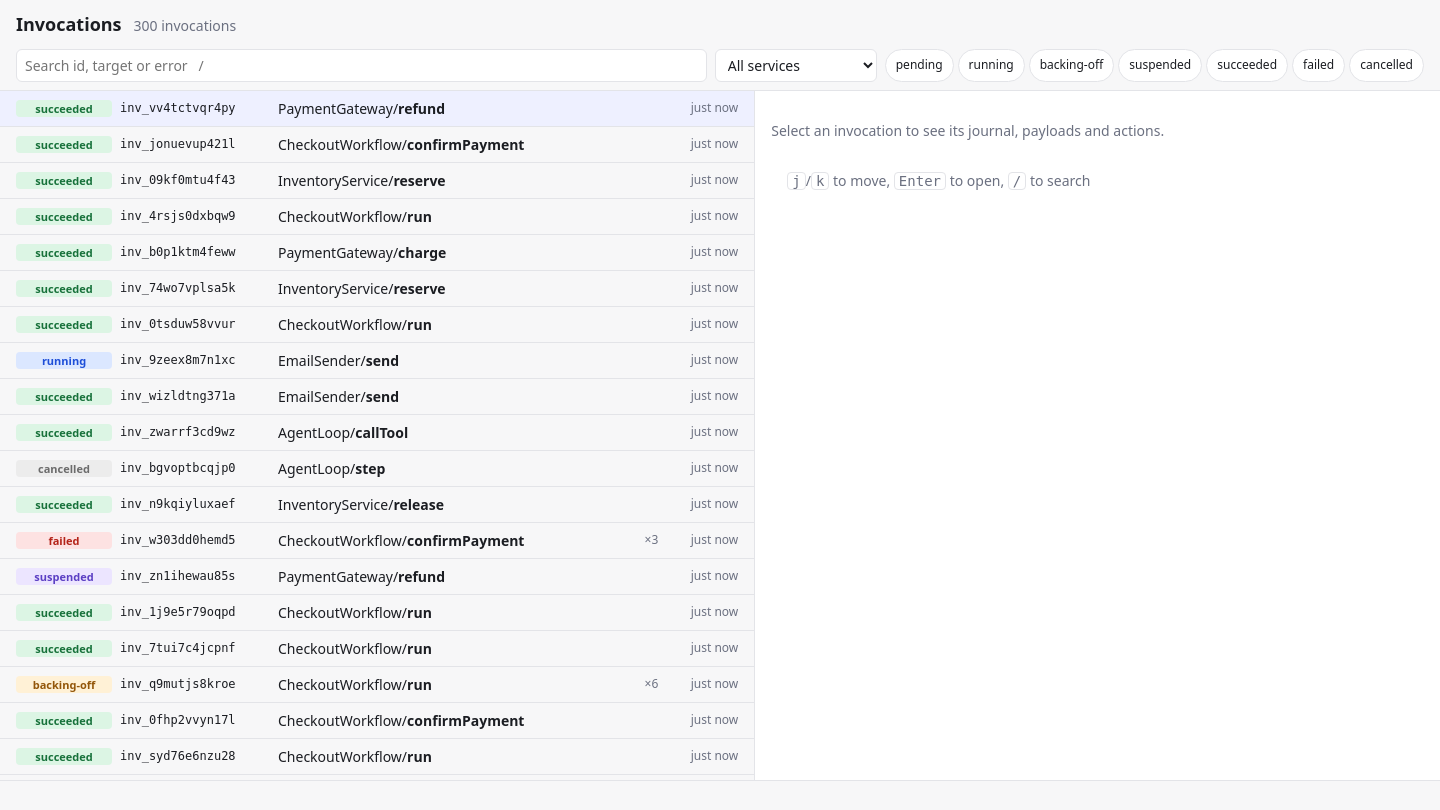
Test: App › filters by status and keeps the filter in the URL
This screenshot has width=1440, height=810.
Expected: the text "300 invocations" is shown, [134,16,236,36]
What coordinates should you click on to do the following:
click the button "failed"
I would click on:
 (1319, 66)
Its box is [1292,49,1345,82].
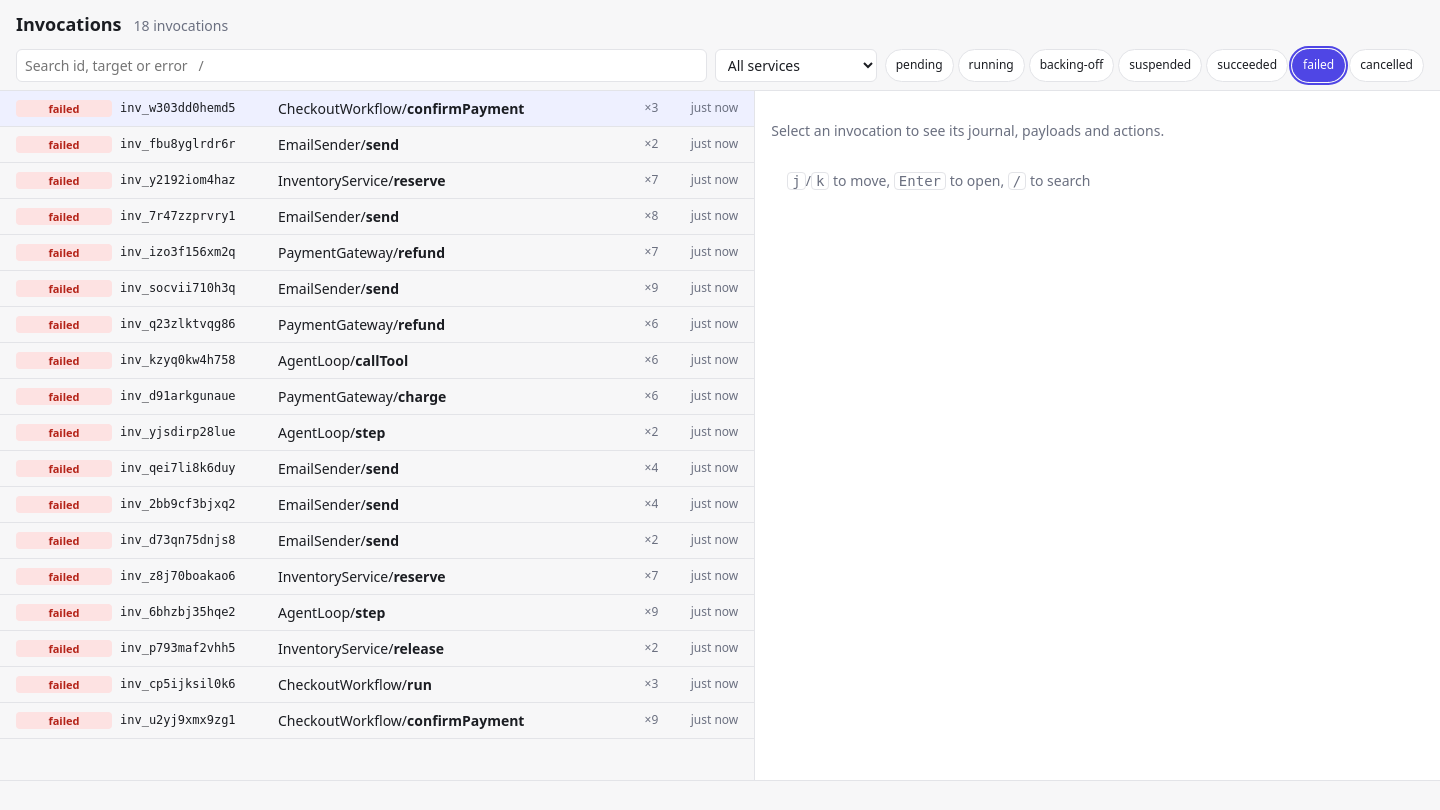
Now the text "300 invocations" is gone
